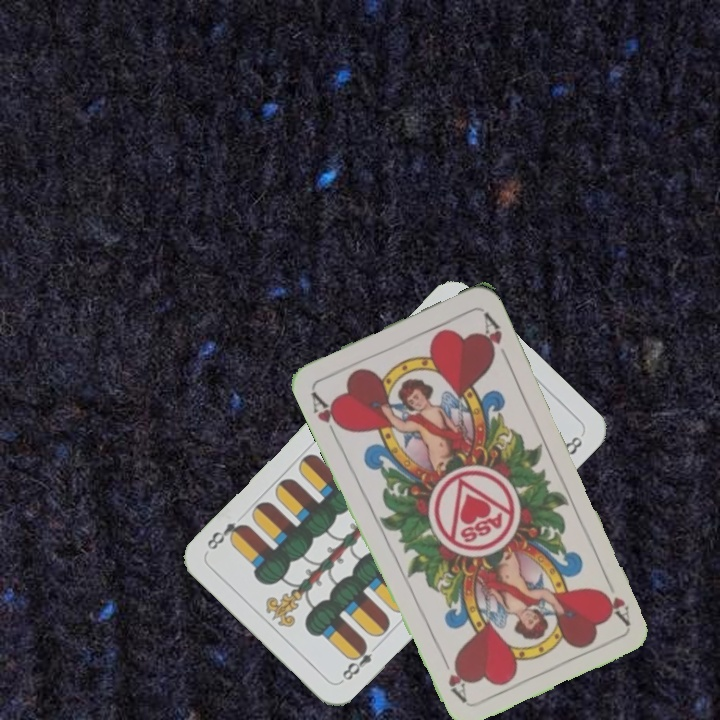E8: (337, 638, 383, 685)
HA: (306, 387, 348, 442), (596, 571, 633, 627)
